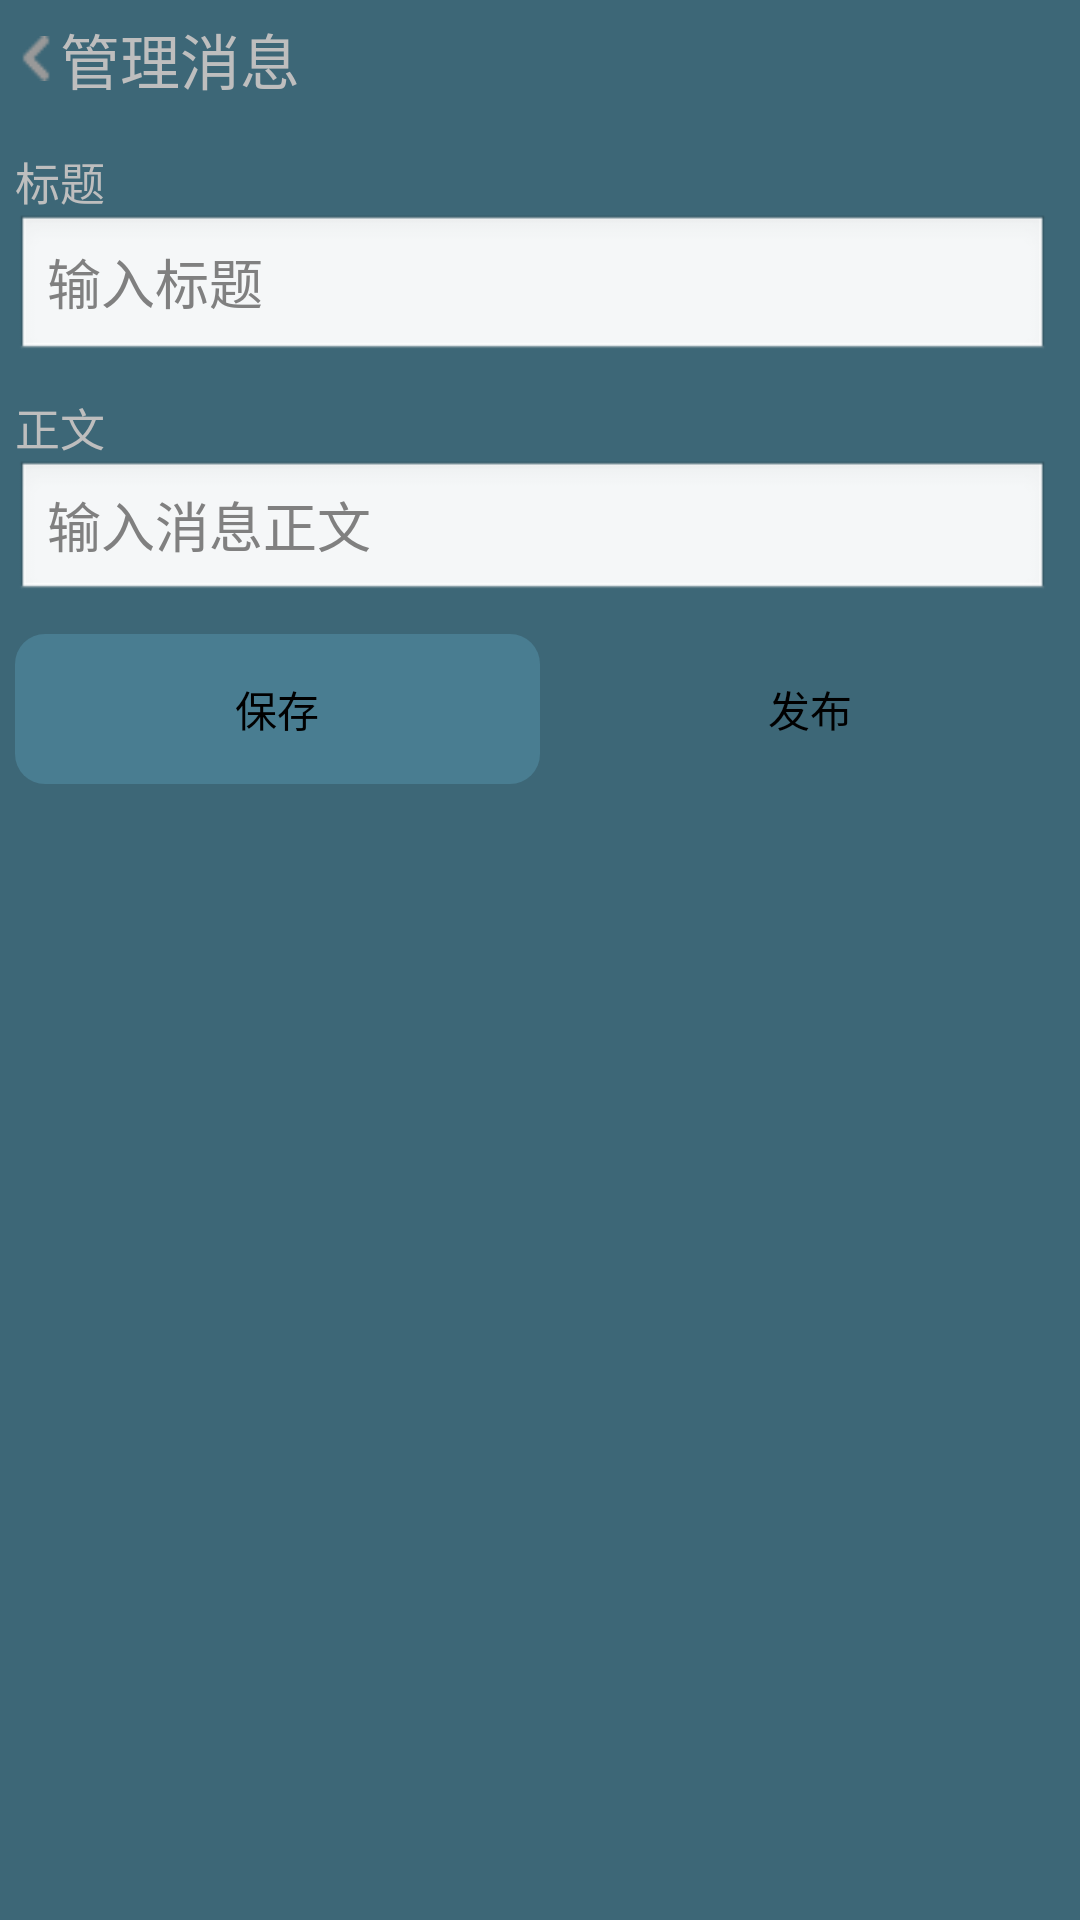

Icon bounding boxes for this 1080×1920 phone screenshot, format (x1, y1, x2, y2):
left: (23, 36, 49, 81)
